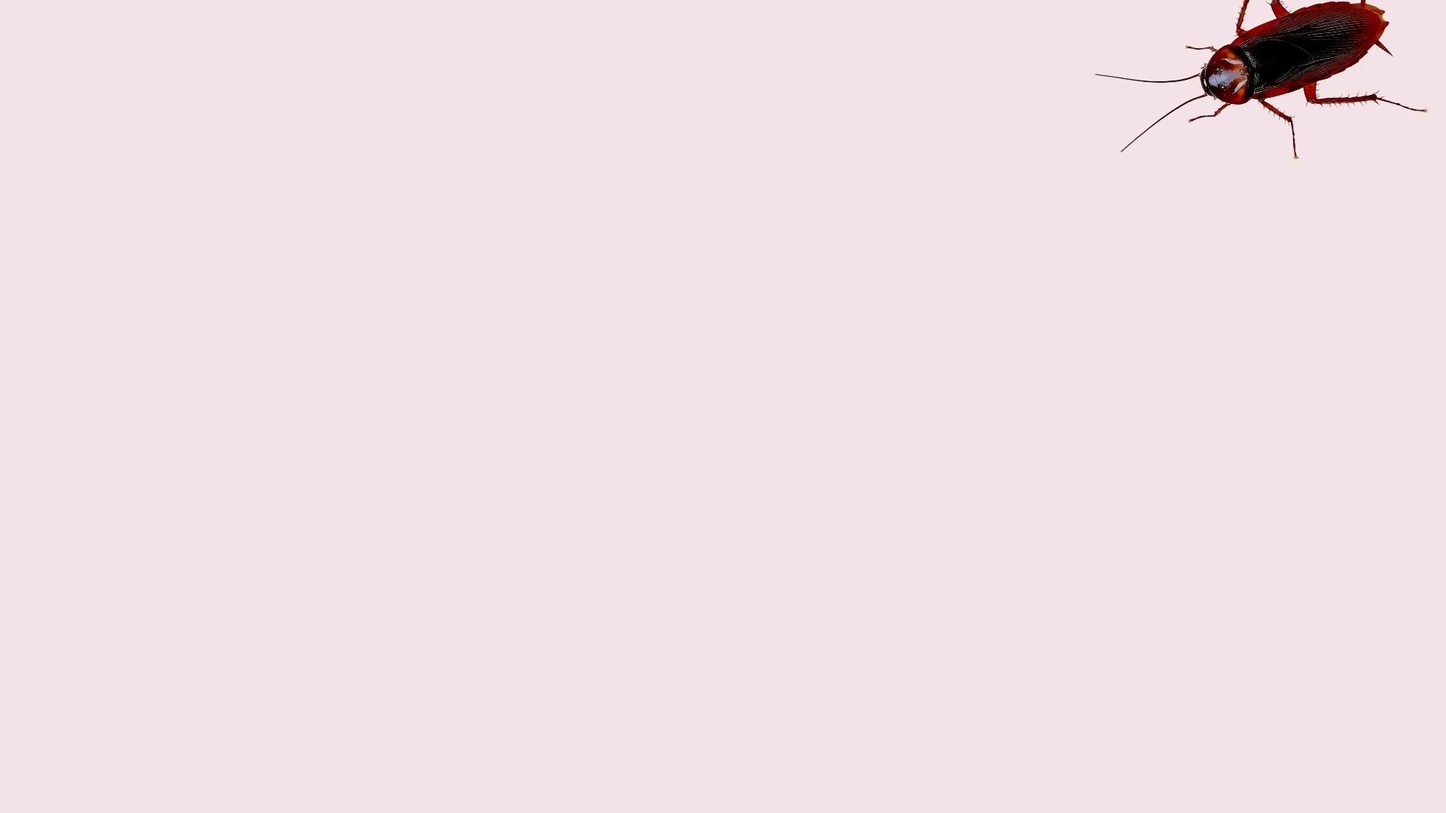cockroach: (1090, 0, 1446, 160)
